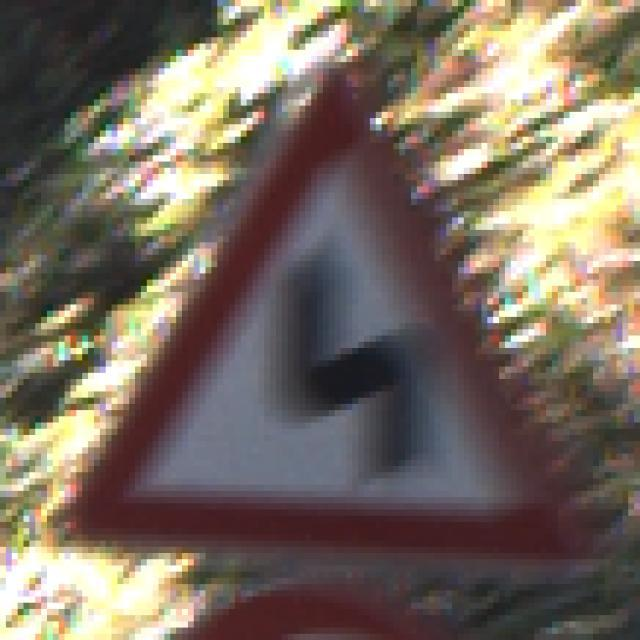left reverse bend: (59, 59, 606, 582)
